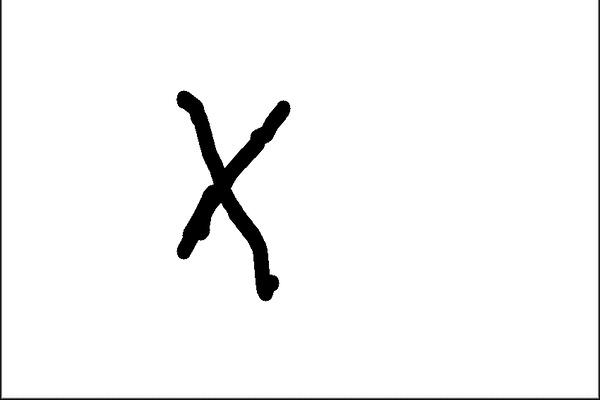X: (147, 43, 303, 347)
